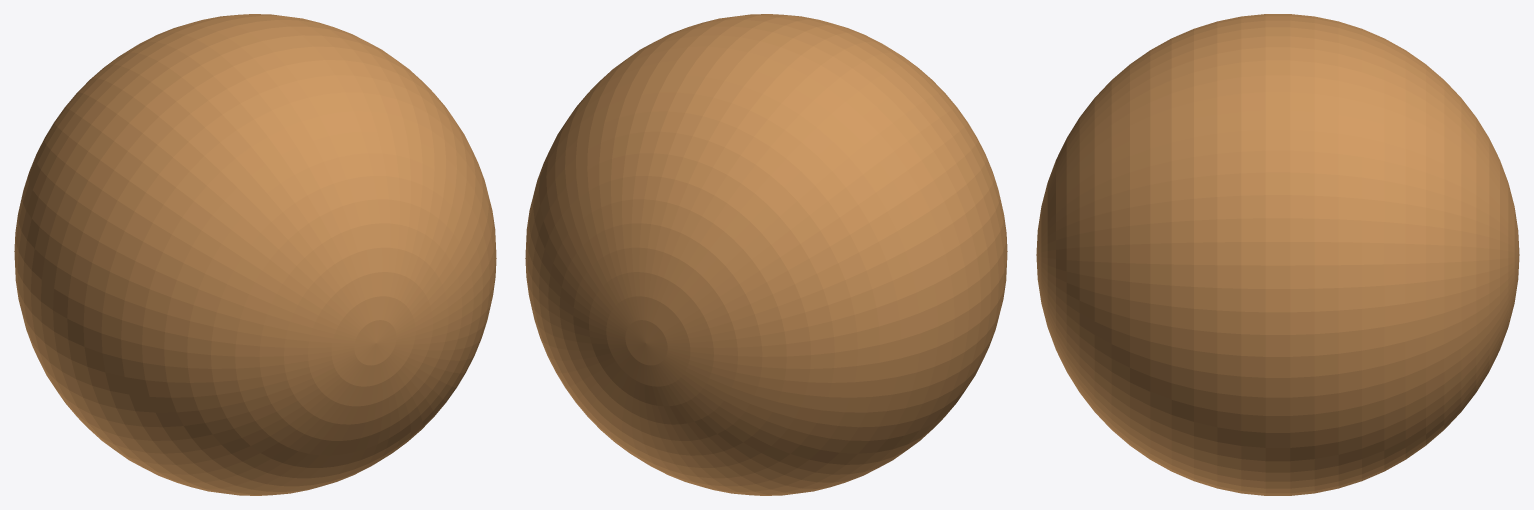
File: basketball.glb
The picture shows the model from 3 angles, left to right: view 1: azimuth 30°, elevation 25°; view 2: azimuth 150°, elevation 25°; view 3: azimuth 270°, elevation 25°; orthographic projection.
Visible parts, largest first — view 1: world; view 2: world; view 3: world.
Part boxes in pixels (box(x1,y1,x2,y2)): world: box(14, 14, 496, 495); world: box(525, 14, 1007, 495); world: box(1036, 14, 1519, 495).
Bounding box in the file's own units: 0.2417 × 0.2417 × 0.242.
